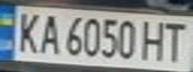0: (118, 17, 142, 61), (81, 15, 103, 58)
5: (100, 16, 121, 60)
6: (60, 12, 84, 57)
A: (36, 11, 63, 55)
H: (139, 18, 169, 62)
K: (12, 8, 42, 54)
T: (160, 18, 190, 63)
